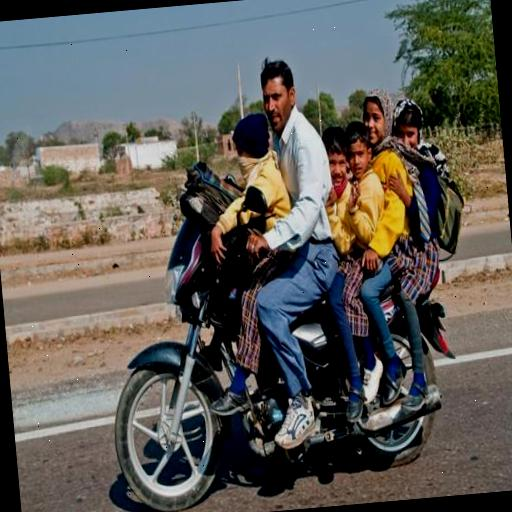no helmet: (245, 64, 312, 154)
triple riding: (77, 41, 469, 492)
